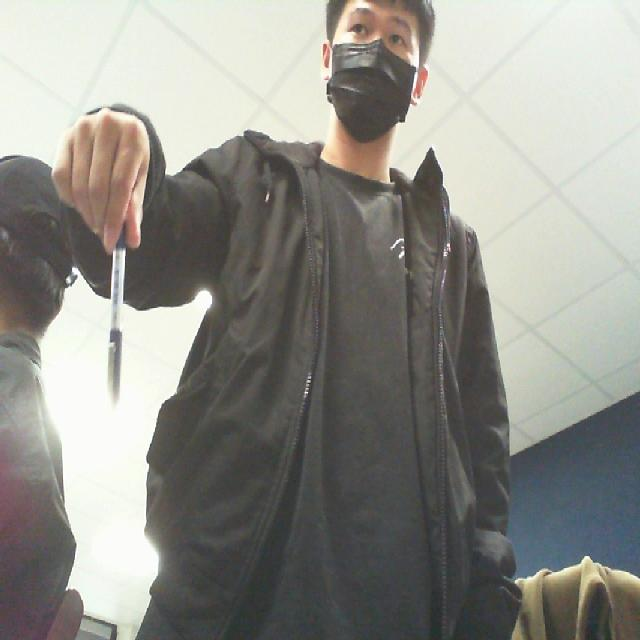Pen: (96, 212, 137, 436)
